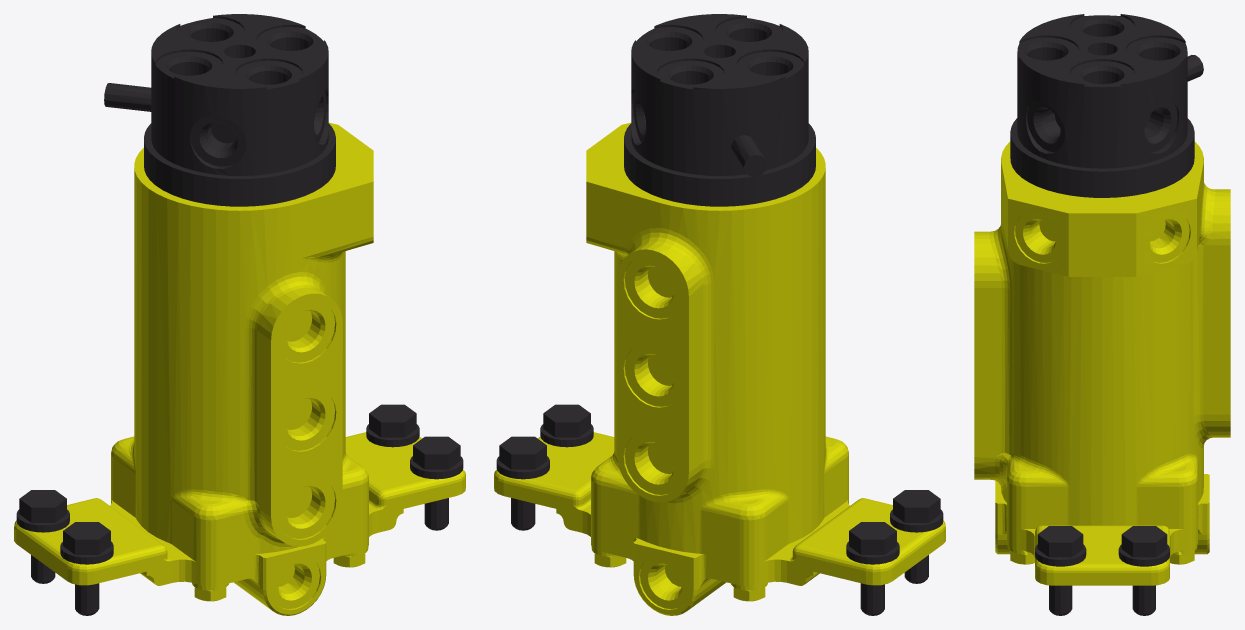
Rendered from JointCenter.glb.
The picture shows the model from 3 angles, left to right: view 1: azimuth 30°, elevation 25°; view 2: azimuth 150°, elevation 25°; view 3: azimuth 270°, elevation 25°; orthographic projection. The views are drawn at different scales.
Bounding box in the file's own units: 2.82 × 3.56 × 1.65.
